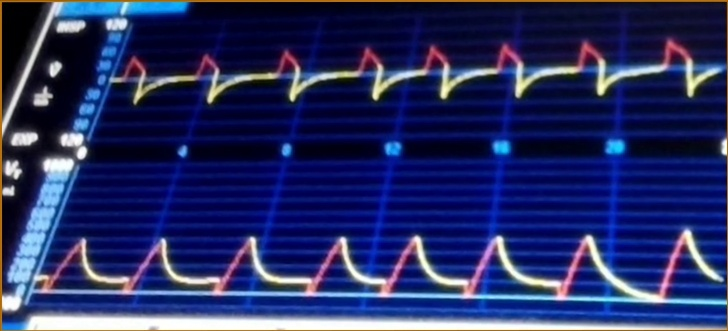Flow: (122, 30, 717, 133)
Leakage Volume: (58, 204, 715, 312)
